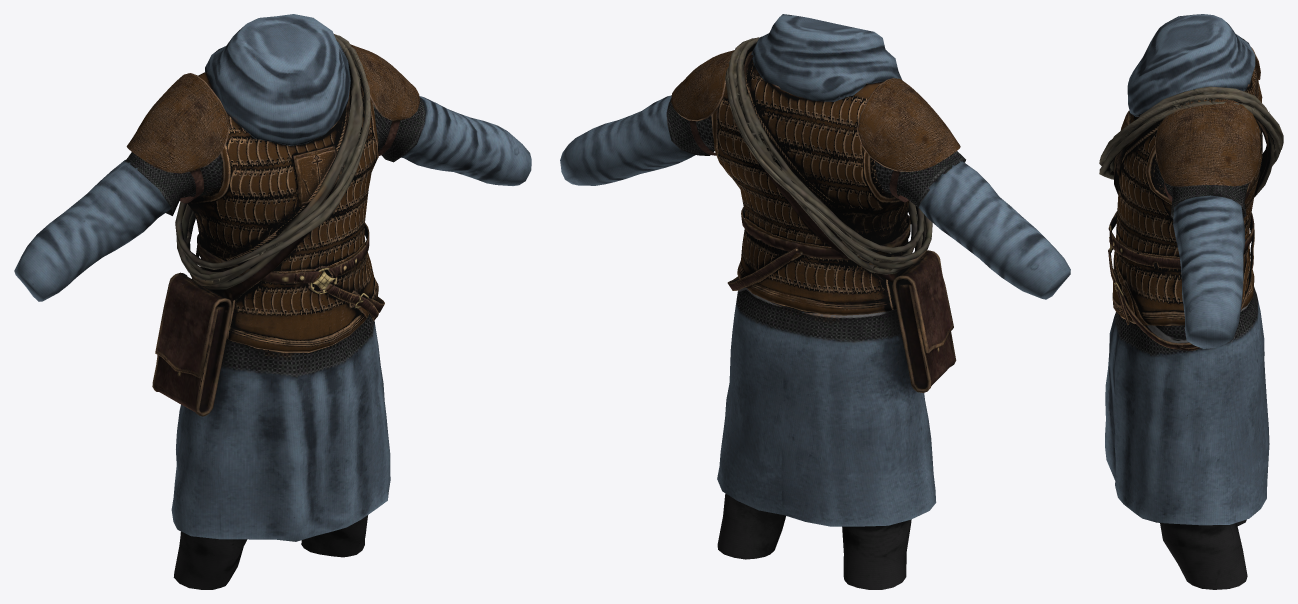
Rendered from lrd_marines_gondor_3_armour.fbx.
3 renders of one model, left to right at view 1: azimuth 30°, elevation 25°; view 2: azimuth 150°, elevation 25°; view 3: azimuth 270°, elevation 25°, orthographic. The views are drawn at different scales.
Visible parts, largest first — view 1: lrd_marines_gondor_3_armour.1, lrd_marines_gondor_3_armour.0; view 2: lrd_marines_gondor_3_armour.1, lrd_marines_gondor_3_armour.0; view 3: lrd_marines_gondor_3_armour.1, lrd_marines_gondor_3_armour.0.
Boxes of the visible parts, x1,y1,x2,y2 form: lrd_marines_gondor_3_armour.1: [14, 14, 531, 589]; lrd_marines_gondor_3_armour.0: [126, 44, 419, 203]; lrd_marines_gondor_3_armour.1: [560, 14, 1070, 589]; lrd_marines_gondor_3_armour.0: [671, 50, 960, 202]; lrd_marines_gondor_3_armour.1: [1099, 14, 1283, 589]; lrd_marines_gondor_3_armour.0: [1155, 39, 1260, 201].
Bounding box in the file's own units: 1.21 × 0.3955 × 1.23.
2 materials, 2 textured.
